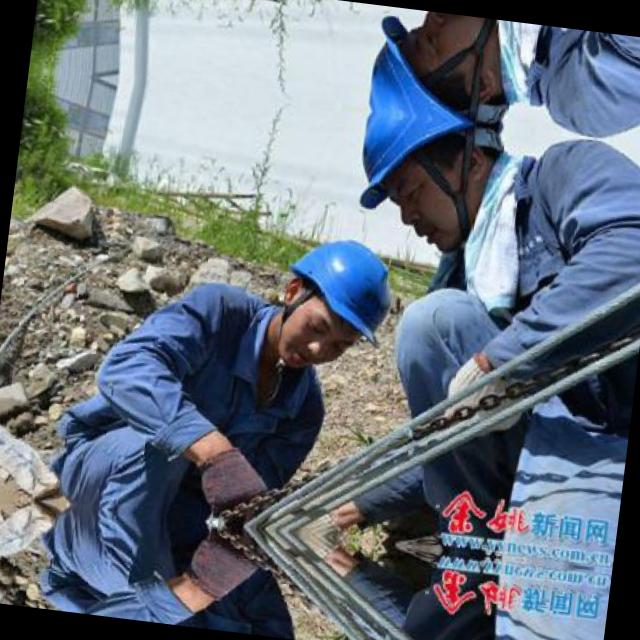helmet: (337, 110, 519, 267), (265, 210, 410, 378), (354, 3, 533, 128)
